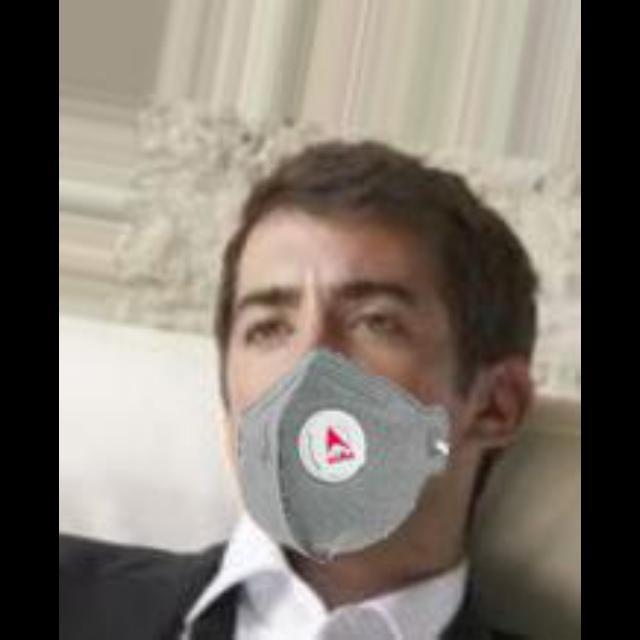suspicion: (202, 176, 524, 578)
